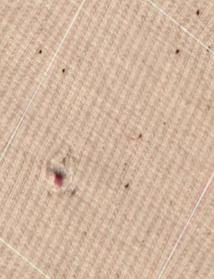hole: (39, 157, 79, 194)
stain: (130, 126, 150, 145), (119, 178, 138, 196), (54, 63, 72, 81), (189, 4, 207, 21), (169, 44, 186, 60), (31, 43, 48, 59)
